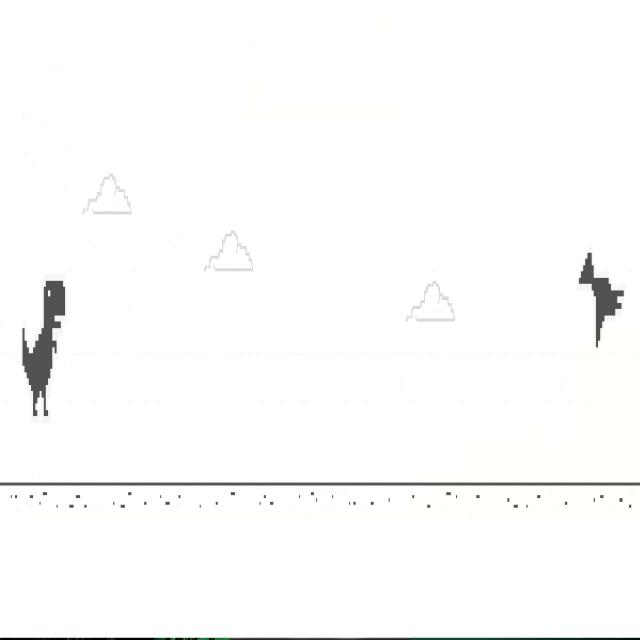dino: (21, 279, 66, 419)
ptero: (578, 250, 624, 350)
